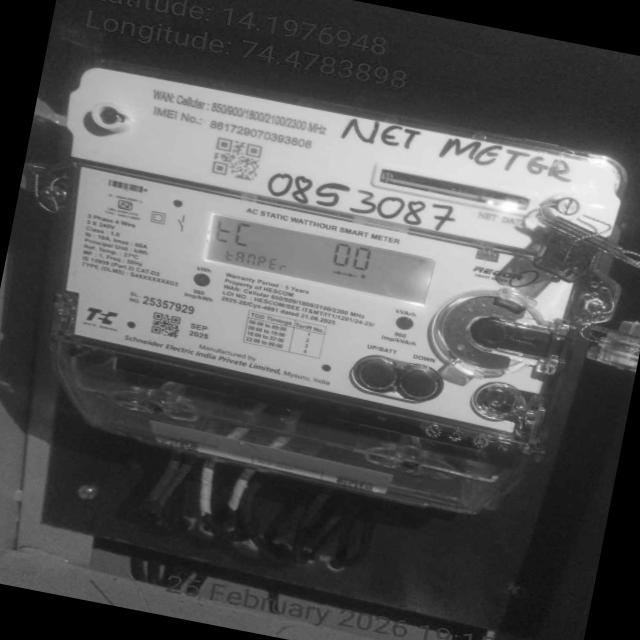meter: (31, 61, 624, 444)
